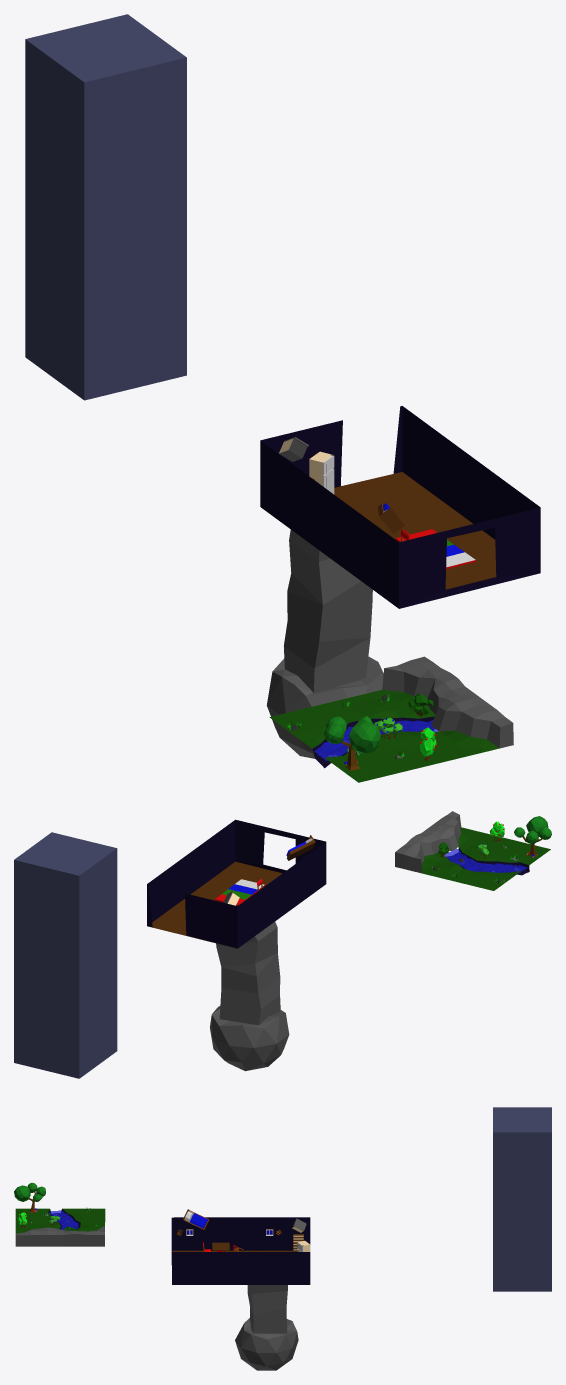
The model's file is threeJsScenePotatoPremium.glb.
3 renders of one model, top to bottom at view 1: azimuth 30°, elevation 25°; view 2: azimuth 150°, elevation 25°; view 3: azimuth 270°, elevation 25°, orthographic. The views are drawn at different scales.
Parts seen in each view (by area): view 1: Experience and projects.002, Main Menu.002, Skill island.002, Education.002, Tree.002; view 2: Experience and projects.002, Main Menu.002, Education.002, Skill island.002, Water, Tree.002, Mat.001; view 3: Experience and projects.002, Main Menu.002, Education.002, Skill island.002, Tree.002.
Part boxes in pixels (x1=…): Experience and projects.002: x1=25, y1=14, x2=186, y2=400; Main Menu.002: x1=260, y1=406, x2=540, y2=608; Skill island.002: x1=269, y1=656, x2=513, y2=782; Education.002: x1=266, y1=529, x2=383, y2=758; Tree.002: x1=324, y1=716, x2=381, y2=770; Experience and projects.002: x1=14, y1=832, x2=117, y2=1078; Main Menu.002: x1=147, y1=819, x2=326, y2=948; Education.002: x1=210, y1=921, x2=289, y2=1071; Skill island.002: x1=395, y1=811, x2=550, y2=890; Water: x1=444, y1=848, x2=527, y2=873; Tree.002: x1=514, y1=816, x2=551, y2=857; Mat.001: x1=215, y1=879, x2=264, y2=905; Experience and projects.002: x1=493, y1=1107, x2=551, y2=1291; Main Menu.002: x1=171, y1=1217, x2=310, y2=1284; Education.002: x1=235, y1=1250, x2=298, y2=1370; Skill island.002: x1=15, y1=1208, x2=105, y2=1246; Tree.002: x1=14, y1=1182, x2=45, y2=1212.
Bounding box in the file's own units: 72.48 × 100 × 190.
Materials: 26 (1 with a texture image).
